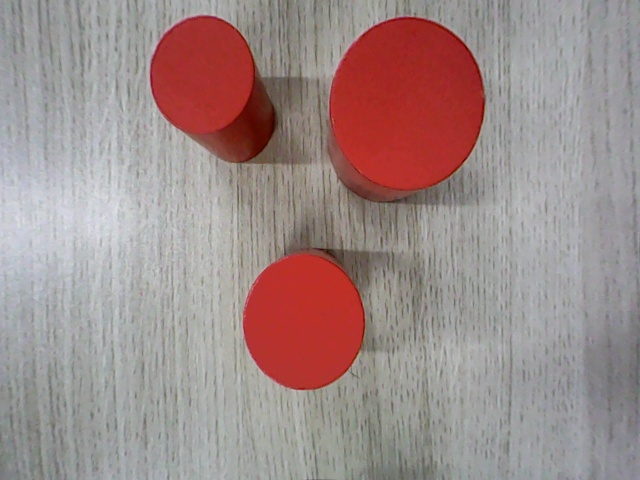upside of cylinder: (328, 15, 488, 192), (242, 254, 364, 390), (149, 15, 255, 135)
